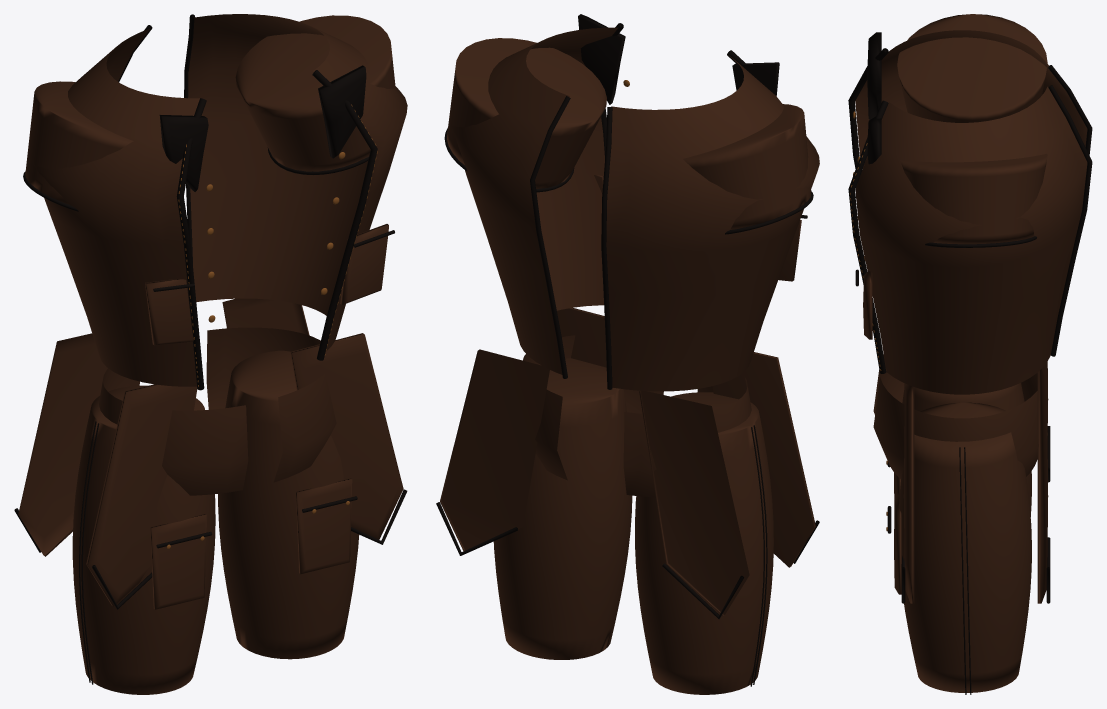
File: Nerok-clothes.obj
The picture shows the model from 3 angles, left to right: view 1: azimuth 30°, elevation 25°; view 2: azimuth 150°, elevation 25°; view 3: azimuth 270°, elevation 25°; orthographic projection. The views are drawn at different scales.
Bounding box in the file's own units: 0.6397 × 1.03 × 0.4021.
